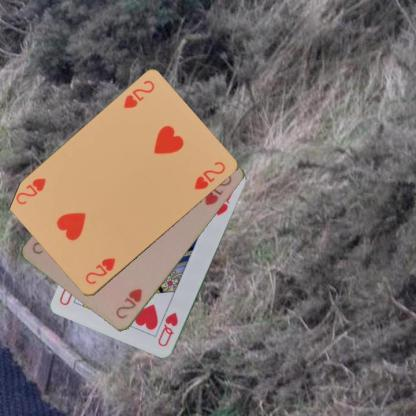2h: (120, 78, 156, 110), (113, 286, 143, 321), (82, 256, 116, 286)
Qh: (155, 310, 180, 348)
